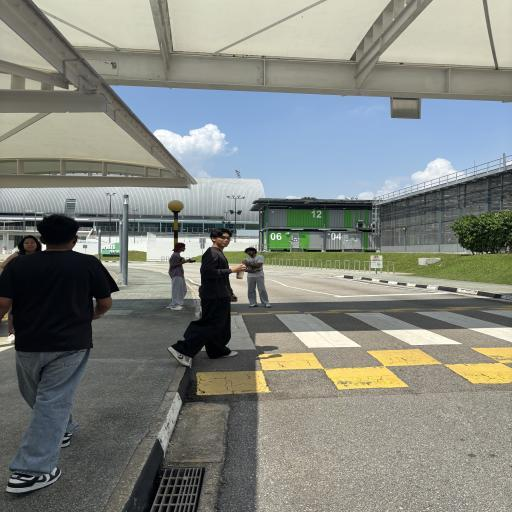person_right: (197, 223, 238, 361)
